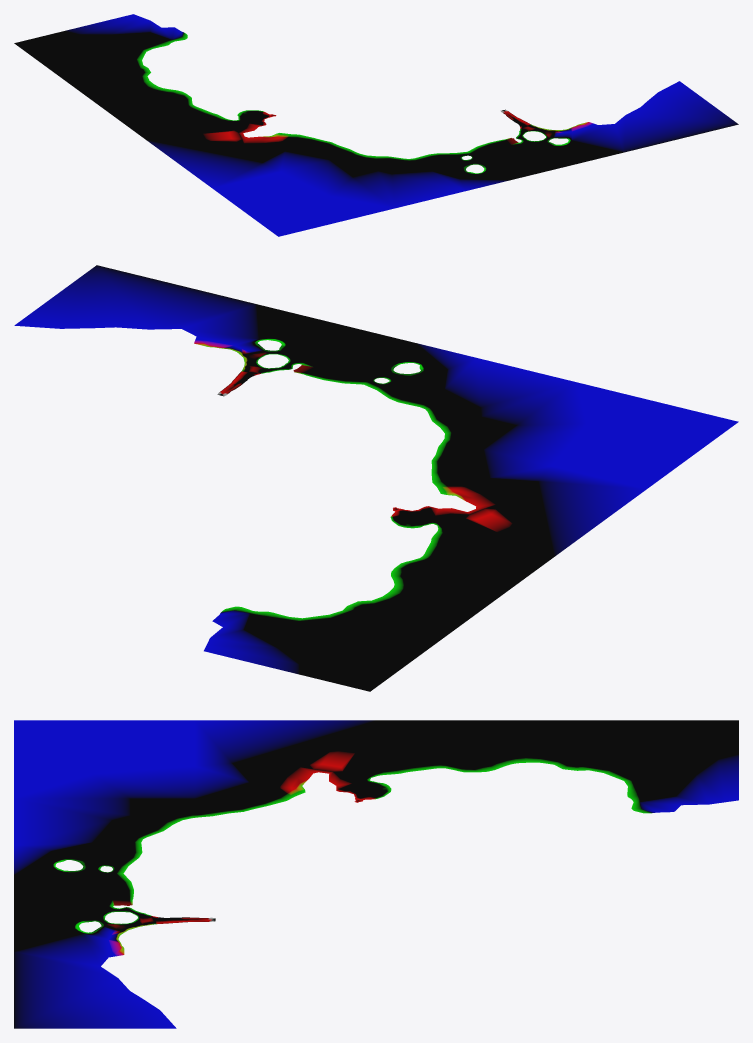
The picture shows the model from 3 angles, top to bottom: view 1: azimuth 30°, elevation 25°; view 2: azimuth 150°, elevation 25°; view 3: azimuth 270°, elevation 25°; orthographic projection. The views are drawn at different scales.
Visible parts, largest first — view 1: G:\FFXIV-MapTools\exports\m5f1\bg\ex4\02_mid_m5\fld\m5f1\bgp (×2); view 2: G:\FFXIV-MapTools\exports\m5f1\bg\ex4\02_mid_m5\fld\m5f1\bgp (×2); view 3: G:\FFXIV-MapTools\exports\m5f1\bg\ex4\02_mid_m5\fld\m5f1\bgp (×2).
Part boxes in pixels (<box>): G:\FFXIV-MapTools\exports\m5f1\bg\ex4\02_mid_m5\fld\m5f1\bgp (×2): <box>14,14,738,236</box>; G:\FFXIV-MapTools\exports\m5f1\bg\ex4\02_mid_m5\fld\m5f1\bgp (×2): <box>14,265,738,691</box>; G:\FFXIV-MapTools\exports\m5f1\bg\ex4\02_mid_m5\fld\m5f1\bgp (×2): <box>14,720,738,1028</box>.
Bounding box in the file's own units: 2010 × 0.2944 × 2000.
